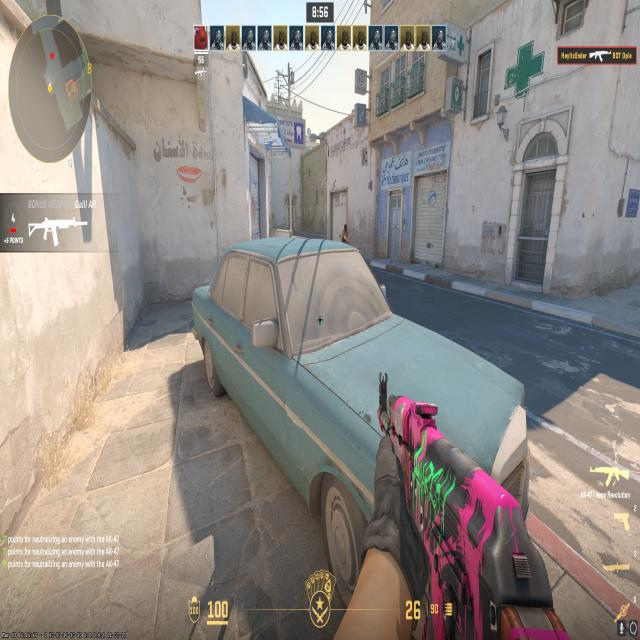t: (338, 218, 351, 244)
